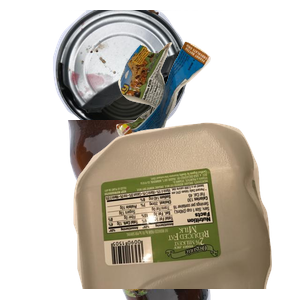glass: (65, 120, 300, 300)
metal: (50, 10, 262, 140)
plastic: (71, 120, 300, 300)
trash: (114, 39, 300, 188)
